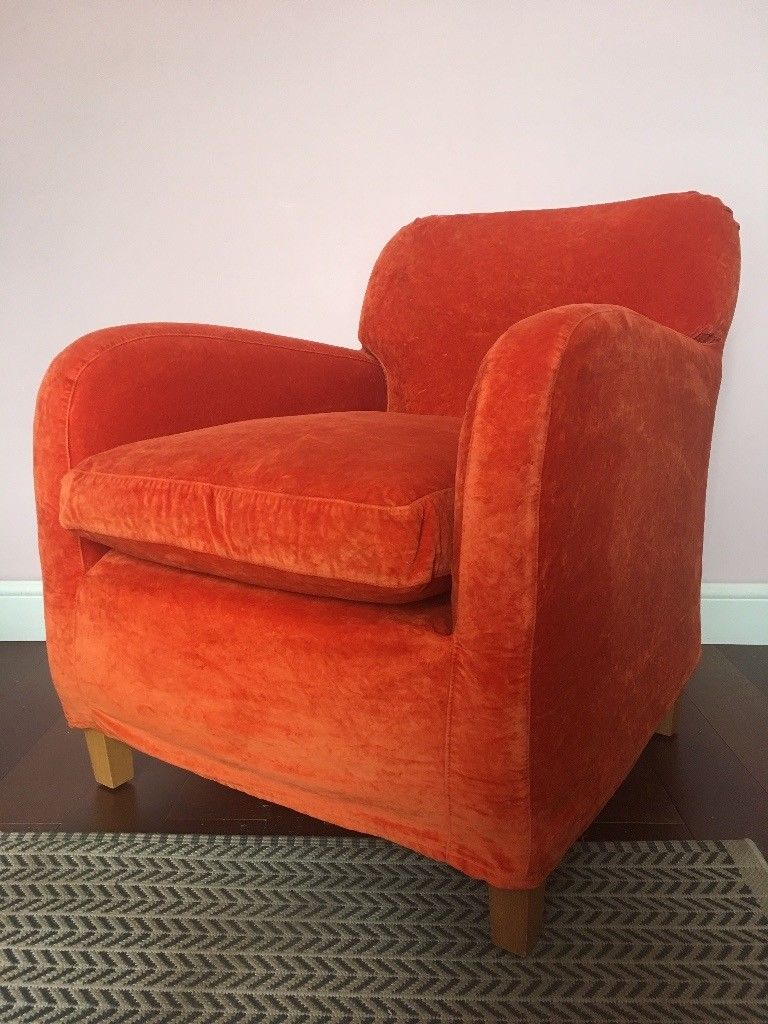chairs: (27, 191, 744, 967)
